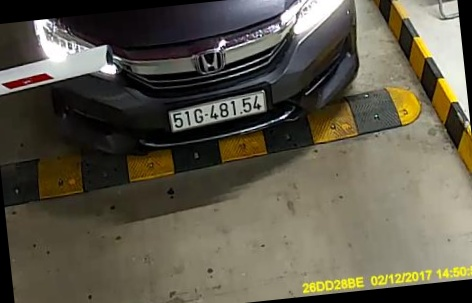plate: (168, 84, 269, 141)
